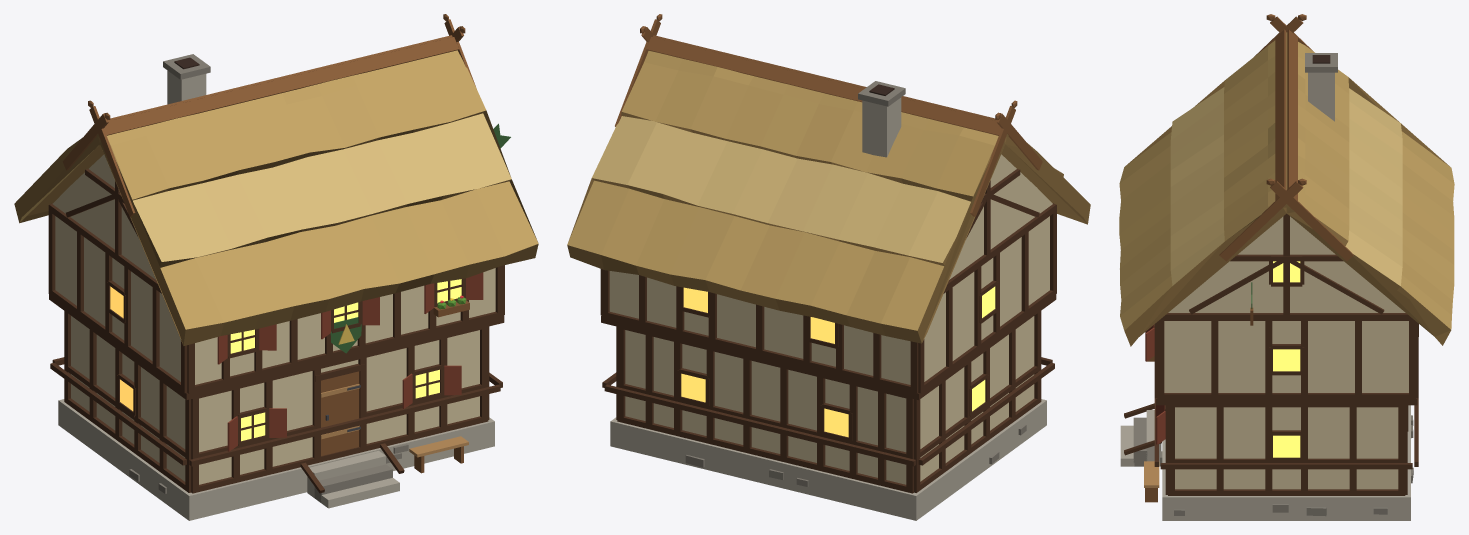
The model's file is Dorf_Schulzenhaus.fbx.
3 renders of one model, left to right at view 1: azimuth 30°, elevation 25°; view 2: azimuth 150°, elevation 25°; view 3: azimuth 270°, elevation 25°, orthographic. The views are drawn at different scales.
Visible parts, largest first — view 1: Dorf_Schulzenhaus; view 2: Dorf_Schulzenhaus; view 3: Dorf_Schulzenhaus.
Boxes of the visible parts, x1,y1,x2,y2 form: Dorf_Schulzenhaus: (14, 14, 538, 520); Dorf_Schulzenhaus: (567, 14, 1090, 520); Dorf_Schulzenhaus: (1119, 14, 1454, 520).
Bounding box in the file's own units: 9.95 × 9.07 × 7.69.
